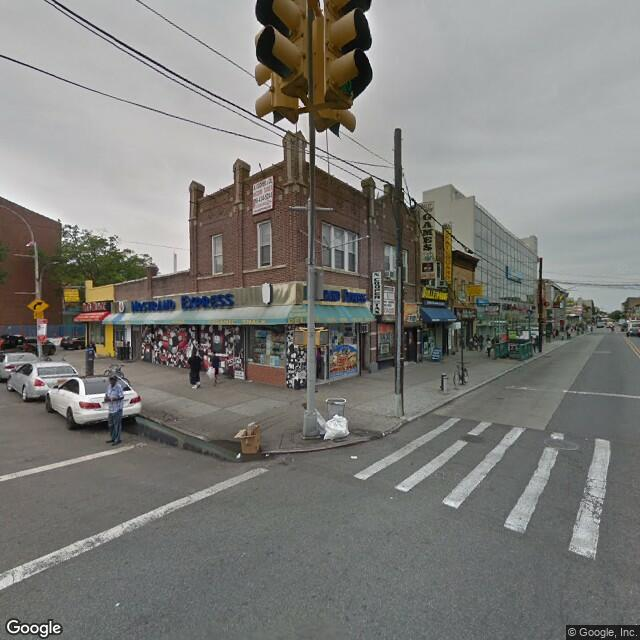litter: (303, 409, 362, 449), (236, 415, 282, 452)
